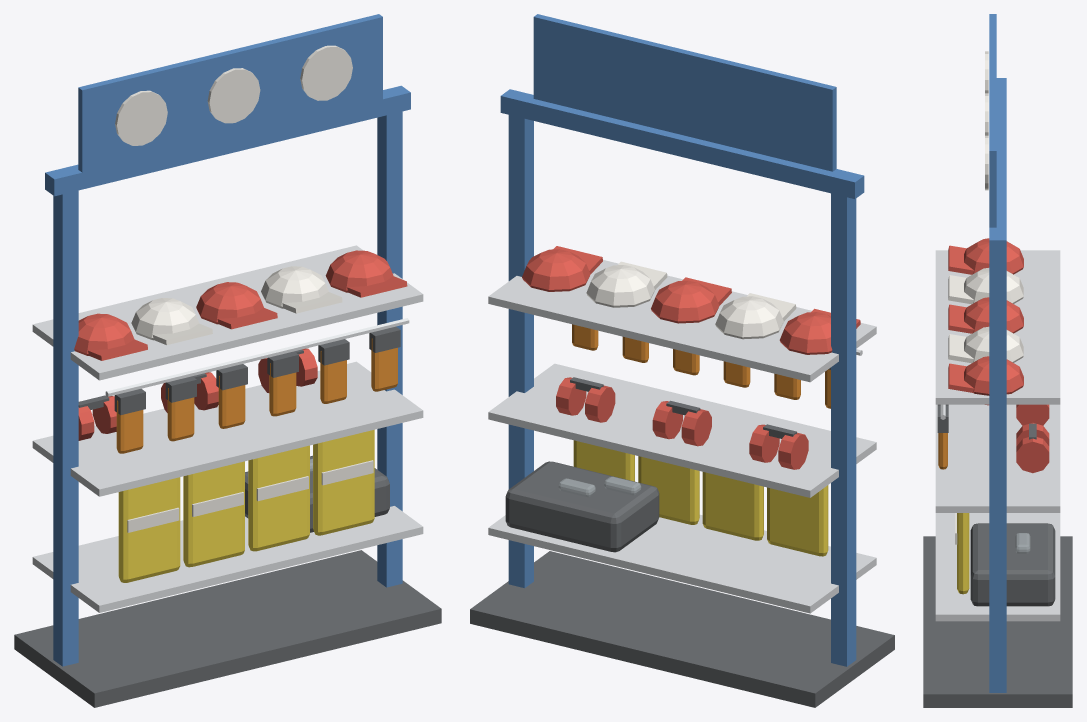
The model's file is tool-hire-depot-and-plant-yard-tool-hire-depot-and-pla-4a9a4f21__35302.glb.
The picture shows the model from 3 angles, left to right: view 1: azimuth 30°, elevation 25°; view 2: azimuth 150°, elevation 25°; view 3: azimuth 270°, elevation 25°; orthographic projection. The views are drawn at different scales.
Visible parts, largest first — view 1: tool-hire-depot-and-plant-yard-ppe-display-stand; view 2: tool-hire-depot-and-plant-yard-ppe-display-stand; view 3: tool-hire-depot-and-plant-yard-ppe-display-stand.
Boxes of the visible parts, box(x1,y1,x2,y2) form: tool-hire-depot-and-plant-yard-ppe-display-stand: box(14, 14, 441, 707); tool-hire-depot-and-plant-yard-ppe-display-stand: box(470, 14, 894, 707); tool-hire-depot-and-plant-yard-ppe-display-stand: box(923, 14, 1072, 707).
Bounding box in the file's own units: 1.54 × 2.42 × 0.5999.
